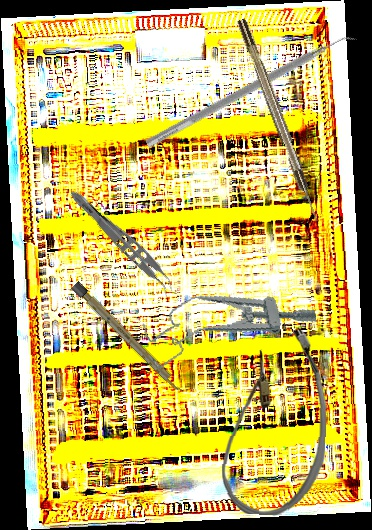Cannula: (220, 327, 330, 517)
Hook Surgical: (236, 17, 322, 224)
Scalpel Handle: (71, 281, 185, 395)
Spatula Surgical: (144, 26, 360, 158)
Speculum: (138, 272, 320, 371)
Tissue Forceps: (60, 186, 182, 300)
